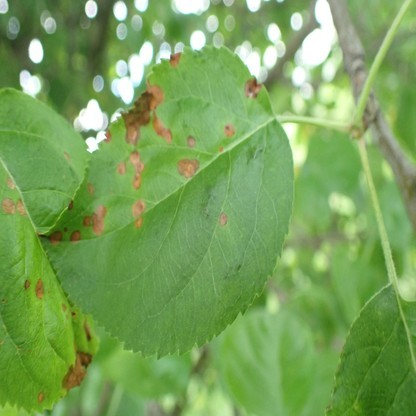frogeye: (120, 80, 173, 146), (61, 349, 93, 391), (129, 151, 146, 189), (176, 158, 200, 178), (1, 197, 25, 216), (92, 206, 107, 234), (244, 77, 262, 99), (132, 199, 146, 227), (82, 314, 91, 341), (168, 52, 182, 68), (35, 276, 44, 300), (47, 231, 62, 244), (223, 123, 235, 137), (69, 230, 81, 243), (117, 161, 127, 175), (219, 212, 227, 227), (187, 135, 196, 148), (103, 129, 111, 143), (7, 177, 15, 189), (38, 391, 45, 403), (87, 183, 93, 195), (83, 216, 90, 226), (24, 278, 30, 288), (64, 153, 70, 163), (68, 200, 73, 211), (218, 146, 224, 153), (62, 303, 66, 312), (64, 227, 67, 232)
